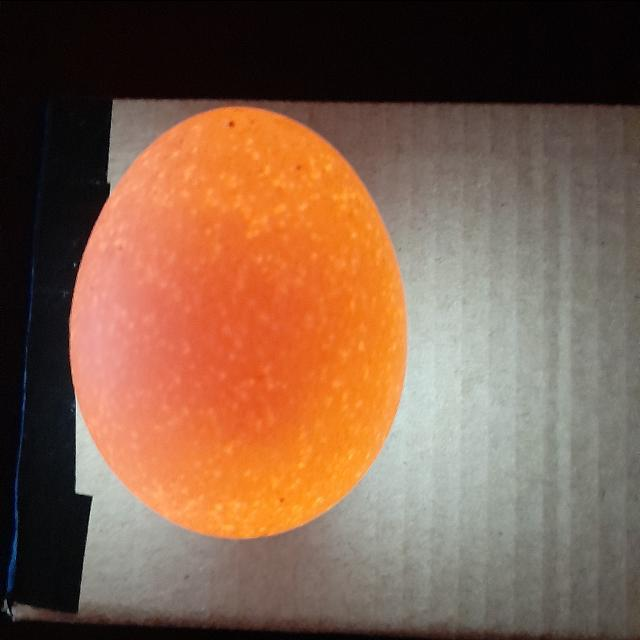AA - Premium: (82, 109, 408, 541)
